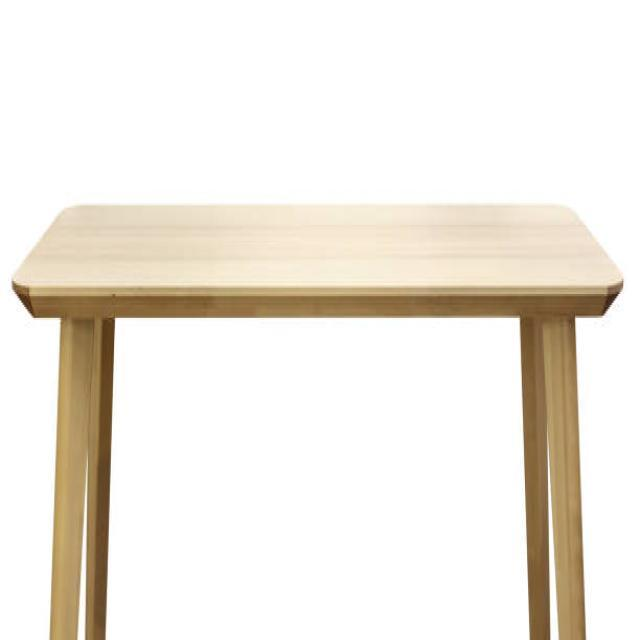table: (11, 199, 624, 636)
